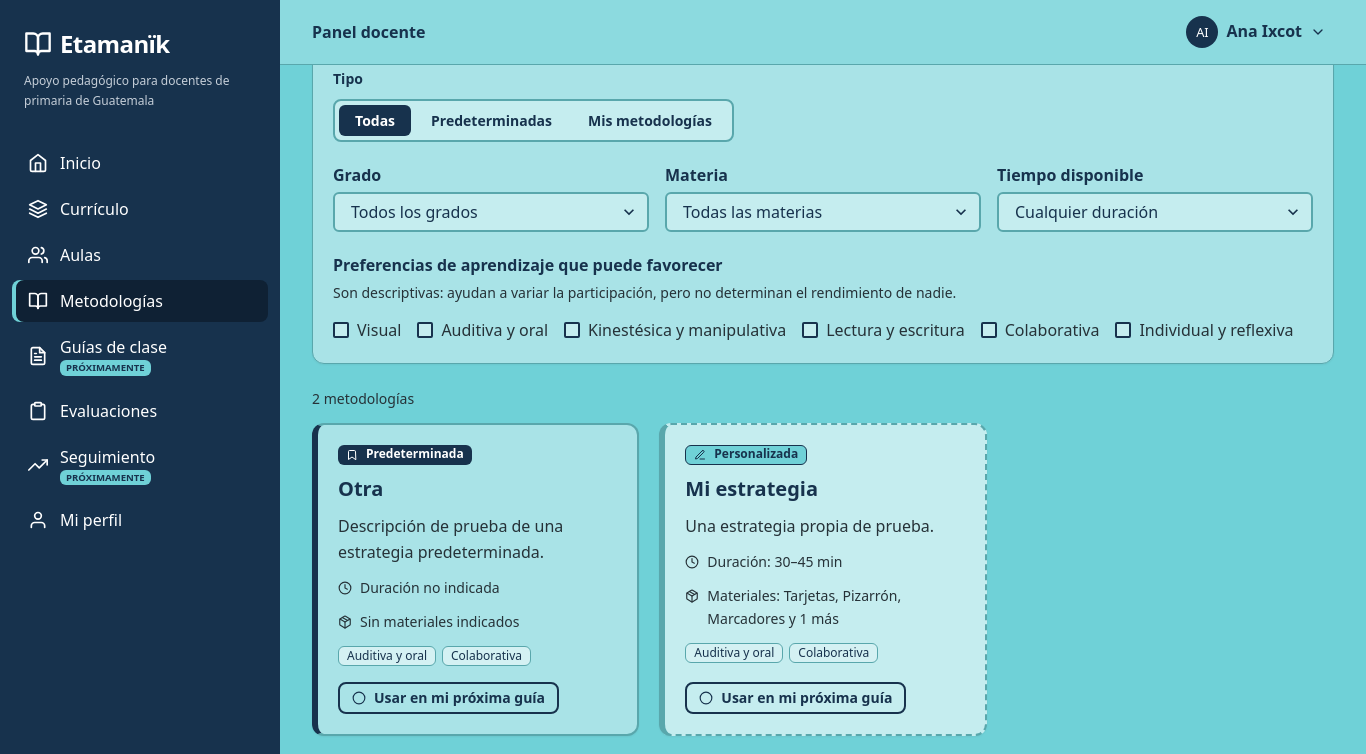
Scenario: Selección para la próxima guía de clase › se elige desde la tarjeta, se ve en el detalle y se guarda solo el id y el nombre
(page scrolled)
Click the button "Usar en mi próxima guía" below "Duración: 30–45 min" at [796, 698], box [685, 682, 906, 714]
(page scrolled)
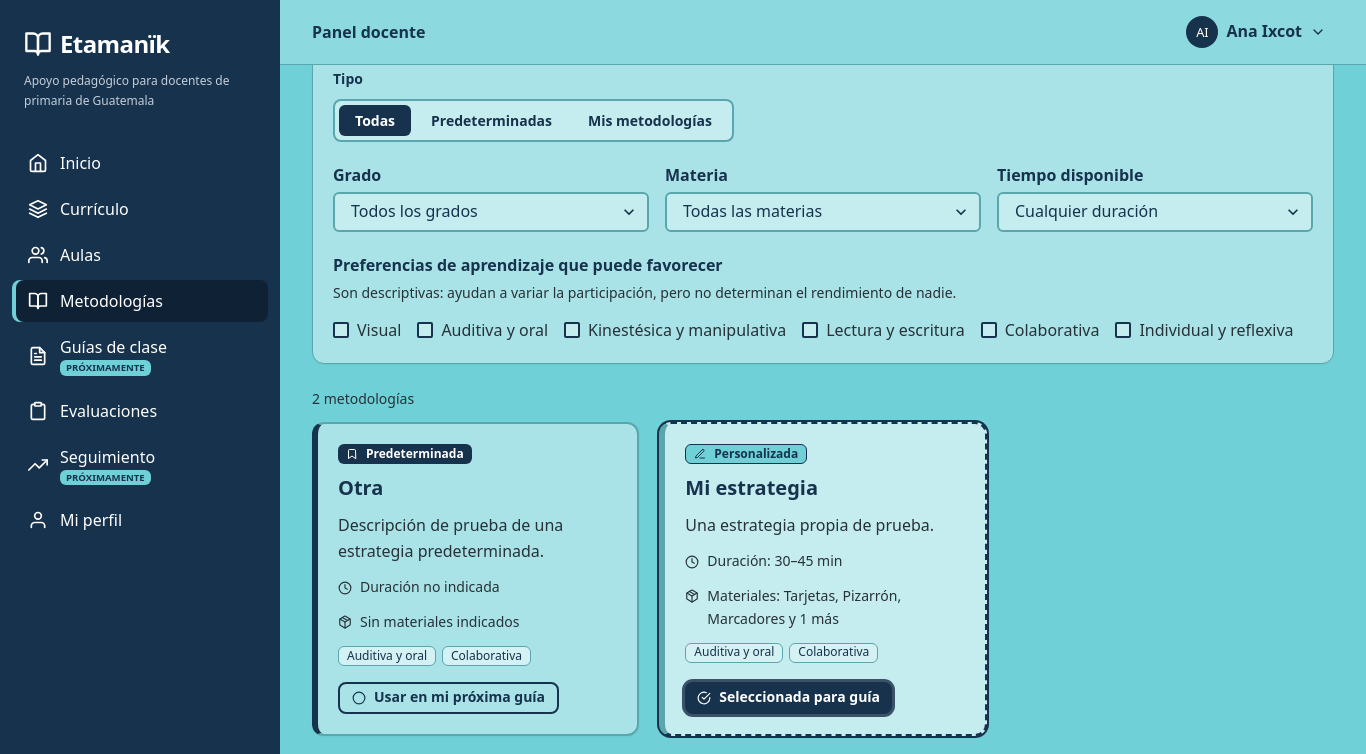
Expected: the button "Seleccionada para guía" is pressed, [685, 682, 892, 714]
// Solo una a la vez
Click the button "Usar en mi próxima guía" at [449, 698], box [338, 682, 559, 714]
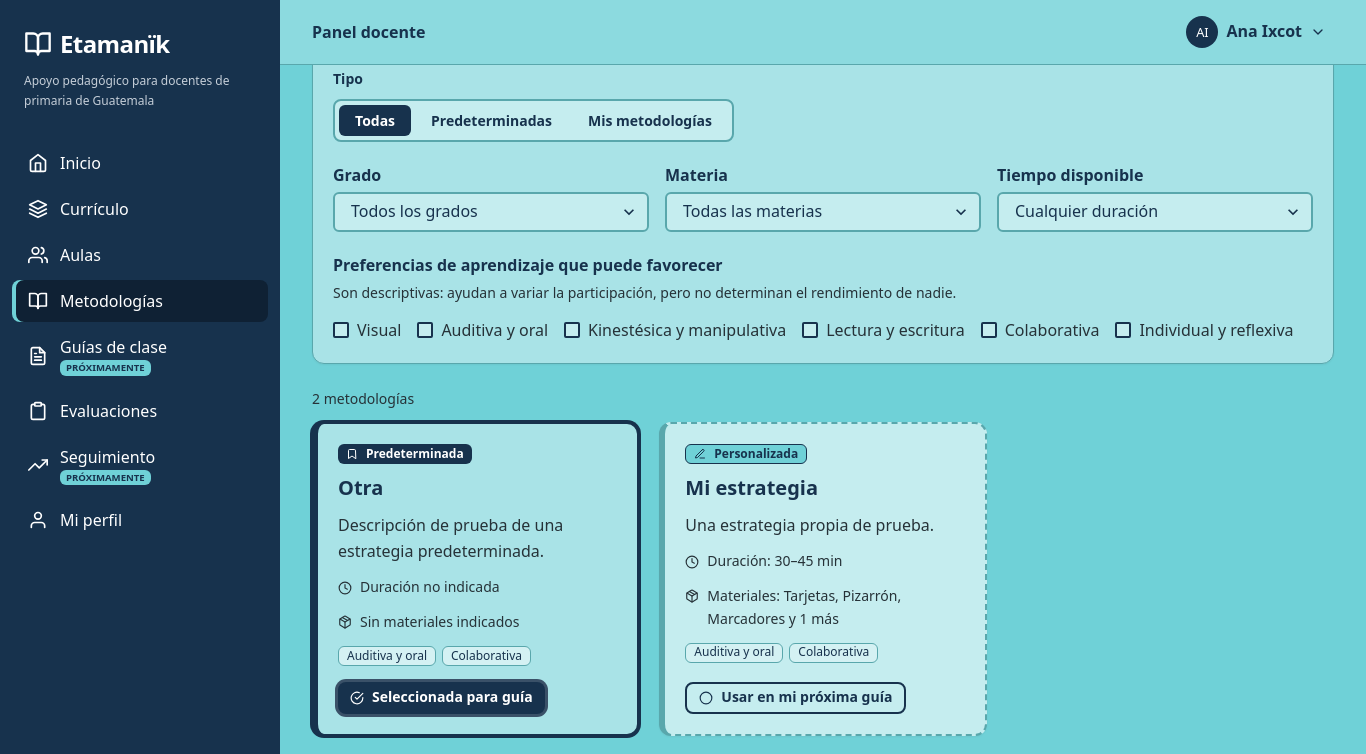
Expected: the button "Usar en mi próxima guía" is not pressed, [685, 682, 906, 714]
Click the link "Otra" at [361, 488], box [338, 474, 383, 501]
(page scrolled)
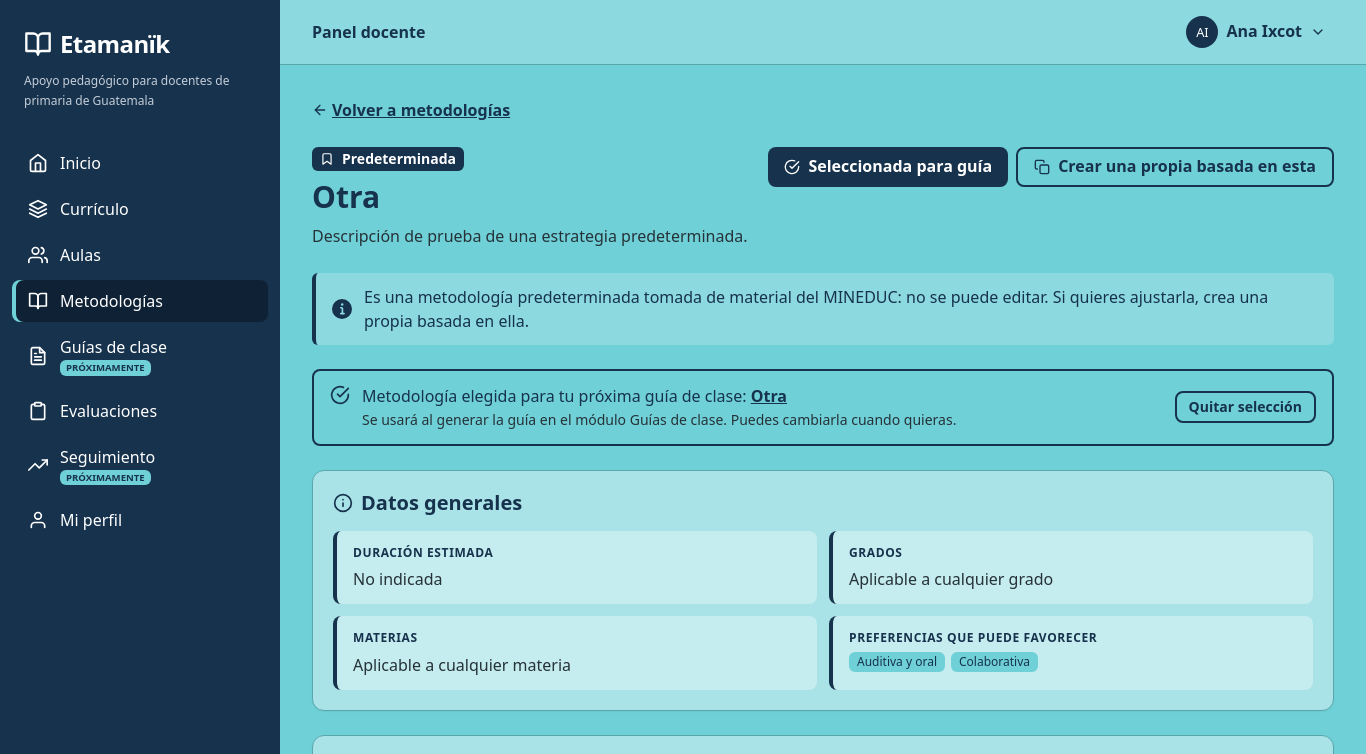
Expected: the button "Seleccionada para guía" is shown, [768, 147, 1008, 187]
Click the button "Quitar selección" at [1245, 407], box [1174, 391, 1316, 423]
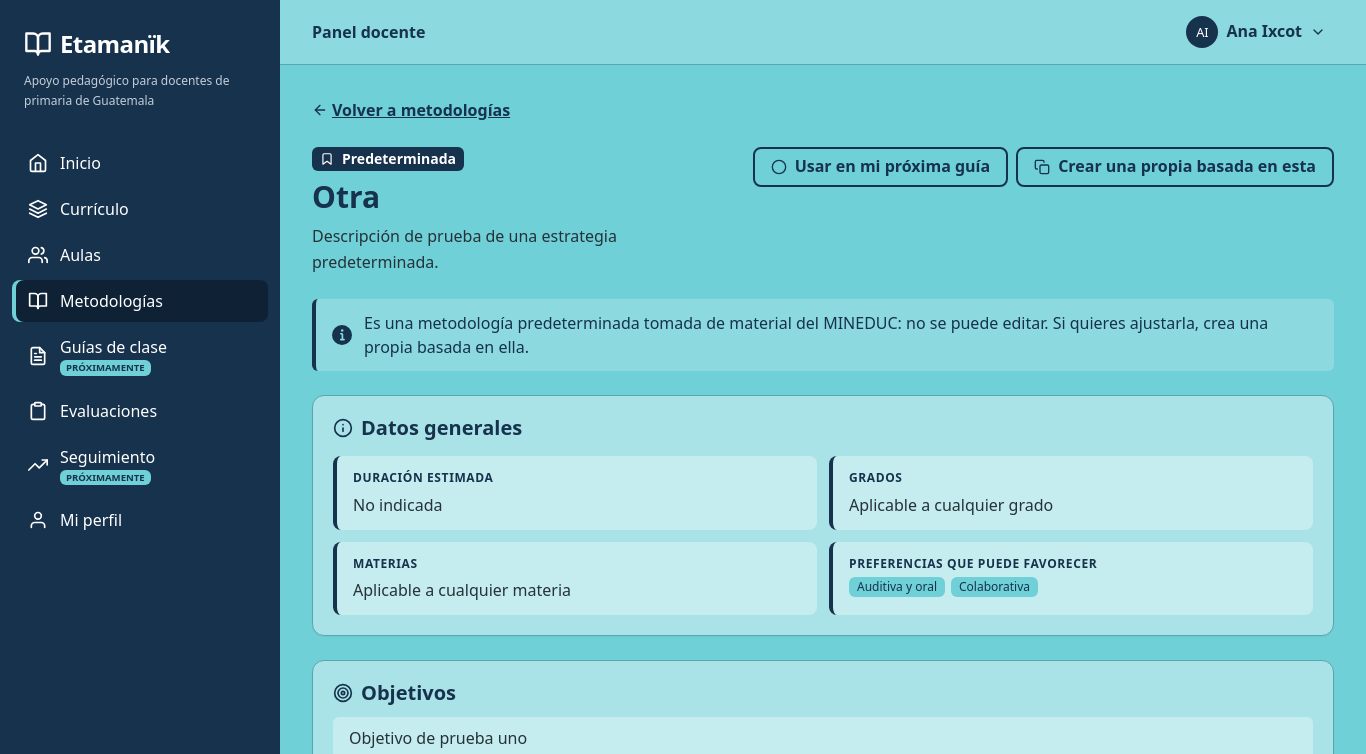
Expected: the text "Metodología elegida para tu próxima guía" is gone
